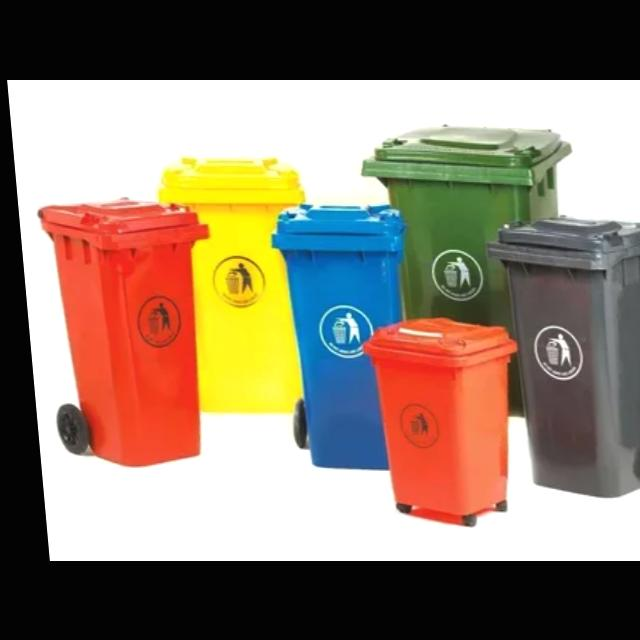Trash_Can_Closed: (354, 120, 588, 416), (30, 195, 221, 466), (478, 213, 640, 498), (265, 202, 419, 470), (154, 156, 300, 412), (354, 314, 523, 526)
